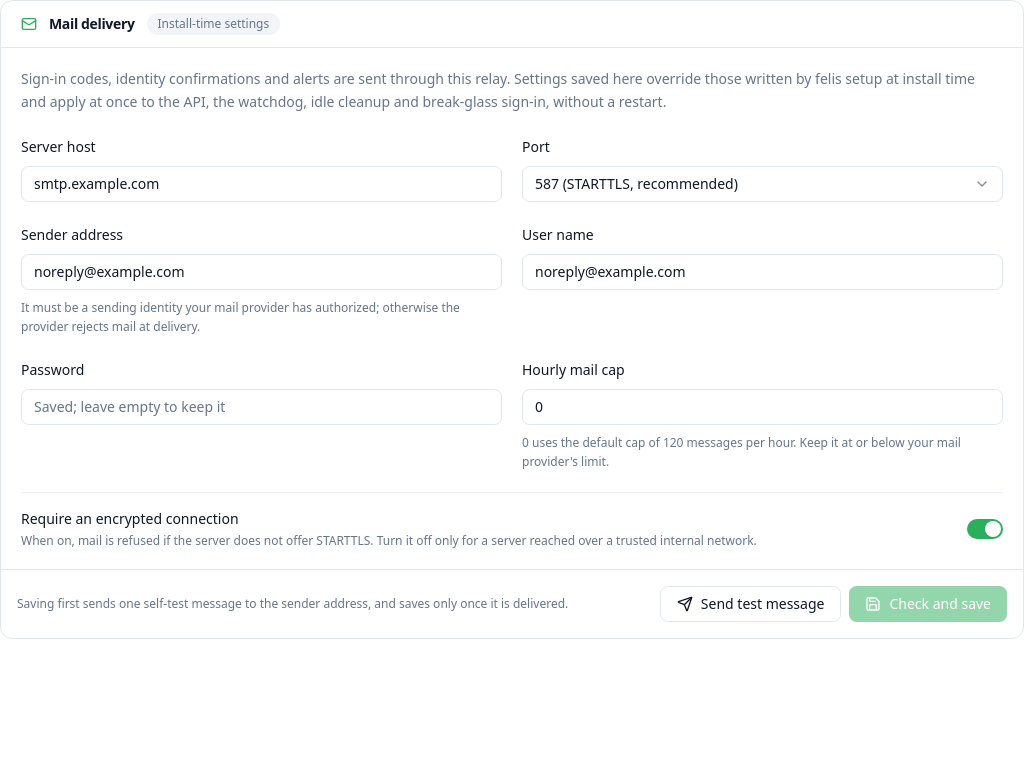
mail settings › mails a test message without saving
Expected: the field labelled "Server host" holds "smtp.example.com", [21,166,502,202]
Click the button "Send test message".
click(751, 604)  # box [660,586,841,622]
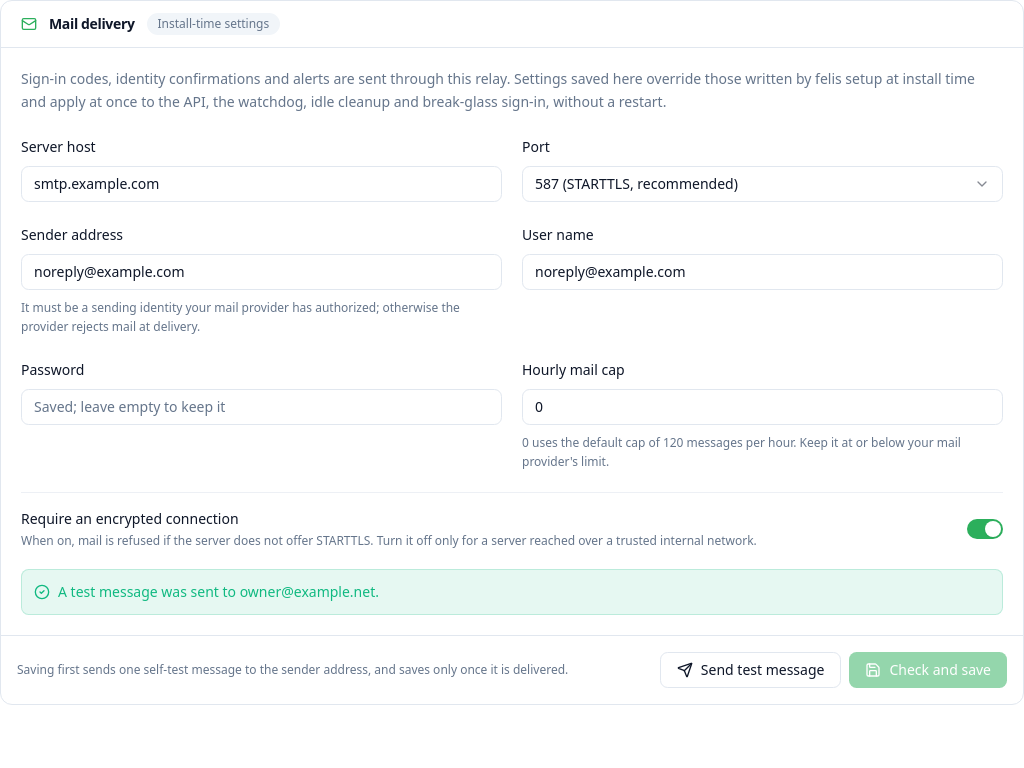
Expected: the text "A test message was sent to owner@example.net." is shown, [58,582,379,602]
